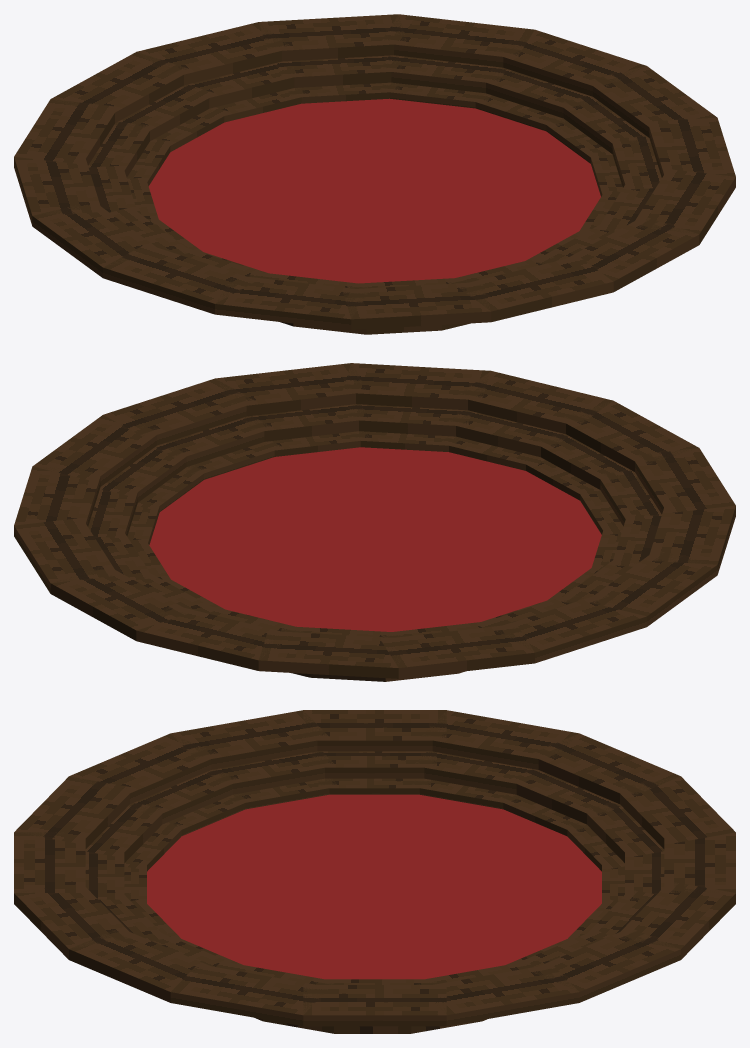
The model's file is beetroot_soup.gltf.
3 views of the same model, one above another, from view 1: azimuth 30°, elevation 25°; view 2: azimuth 150°, elevation 25°; view 3: azimuth 270°, elevation 25° (orthographic).
Visible parts, largest first — view 1: d297f1f9-d02d-9167-44e2-d2d10711b92a, 3bd595d8-c8d8-8e1f-06b3-3cddde2d1557, 9120418a-b0b3-691b-381f-fc3295027f0b, def1c6b0-9e14-e6c2-ab47-0efa7060a84c, f73a48d4-82fd-4c16-953e-ffd6972afe9a, 52a0cb91-4145-1945-8726-5afece0eb060, bba5c583-7ed7-88a5-593d-87915e8fcb8a, 8c423f0f-eef6-a86c-1a44-40e832507e5c, a56b0a11-e8c6-328a-e4f6-247904a5406a, a4475560-7c68-4c83-dd10-37798ab21e79, 7167dc7d-f3ba-0af0-95c4-1eb84645126d, 3343dfec-e2fd-2607-5b75-769e7f3d10f5 (+46 smaller); view 2: 358e8bf9-37b4-3f1f-43fa-1f90005f3583, 9d94169f-267f-b65d-614e-fd06cb2aa6ae, 74181cbe-9815-72b5-d16c-1b12b06b36e2, 6ea89b46-709d-842b-f5cb-ed224063e98d, 9120418a-b0b3-691b-381f-fc3295027f0b, ef0e4f92-a510-a515-c3ab-61c2ff41bd29, c02ed32c-ece5-be66-e192-2cbbdeaddcfa, 8c423f0f-eef6-a86c-1a44-40e832507e5c, 3bd595d8-c8d8-8e1f-06b3-3cddde2d1557, 9f8b8ab0-612a-8770-f4f1-33d205610da4, 4a0c4d32-3595-b147-7348-9e28e950a136, 35467b8e-8ce4-f491-5c77-a38fad2ba2b7 (+46 smaller); view 3: d297f1f9-d02d-9167-44e2-d2d10711b92a, 74181cbe-9815-72b5-d16c-1b12b06b36e2, def1c6b0-9e14-e6c2-ab47-0efa7060a84c, f73a48d4-82fd-4c16-953e-ffd6972afe9a, a4475560-7c68-4c83-dd10-37798ab21e79, e7e35370-12a7-0ddd-5b9e-954f37c2295d, d5ea9301-48b8-bece-629e-57312311e5a4, 358e8bf9-37b4-3f1f-43fa-1f90005f3583, 9f8b8ab0-612a-8770-f4f1-33d205610da4, a56b0a11-e8c6-328a-e4f6-247904a5406a, 828349ce-917f-b604-7065-fc249154bba1, fee19a3f-2a6b-ad59-81d9-776ef89a4b23 (+48 smaller).
Boxes of the visible parts, x1,y1,x2,y2 form: d297f1f9-d02d-9167-44e2-d2d10711b92a: (319, 131, 590, 219); 3bd595d8-c8d8-8e1f-06b3-3cddde2d1557: (306, 98, 419, 177); 9120418a-b0b3-691b-381f-fc3295027f0b: (341, 196, 523, 278); def1c6b0-9e14-e6c2-ab47-0efa7060a84c: (213, 198, 373, 275); f73a48d4-82fd-4c16-953e-ffd6972afe9a: (173, 121, 347, 197); 52a0cb91-4145-1945-8726-5afece0eb060: (342, 282, 491, 329); bba5c583-7ed7-88a5-593d-87915e8fcb8a: (149, 178, 335, 225); 8c423f0f-eef6-a86c-1a44-40e832507e5c: (456, 256, 613, 321); a56b0a11-e8c6-328a-e4f6-247904a5406a: (103, 244, 257, 314); a4475560-7c68-4c83-dd10-37798ab21e79: (342, 211, 452, 283); 7167dc7d-f3ba-0af0-95c4-1eb84645126d: (215, 276, 368, 329); 3343dfec-e2fd-2607-5b75-769e7f3d10f5: (381, 14, 534, 67); 358e8bf9-37b4-3f1f-43fa-1f90005f3583: (350, 525, 585, 603); 9d94169f-267f-b65d-614e-fd06cb2aa6ae: (149, 510, 376, 560); 74181cbe-9815-72b5-d16c-1b12b06b36e2: (203, 457, 397, 568); 6ea89b46-709d-842b-f5cb-ed224063e98d: (380, 624, 534, 678); 9120418a-b0b3-691b-381f-fc3295027f0b: (349, 451, 521, 530); ef0e4f92-a510-a515-c3ab-61c2ff41bd29: (258, 631, 403, 678); c02ed32c-ece5-be66-e192-2cbbdeaddcfa: (342, 363, 490, 410); 8c423f0f-eef6-a86c-1a44-40e832507e5c: (456, 371, 612, 433); 3bd595d8-c8d8-8e1f-06b3-3cddde2d1557: (174, 538, 334, 610); 9f8b8ab0-612a-8770-f4f1-33d205610da4: (103, 378, 257, 445); 4a0c4d32-3595-b147-7348-9e28e950a136: (215, 363, 365, 416); 35467b8e-8ce4-f491-5c77-a38fad2ba2b7: (493, 593, 646, 663); d297f1f9-d02d-9167-44e2-d2d10711b92a: (326, 874, 419, 979); 74181cbe-9815-72b5-d16c-1b12b06b36e2: (251, 868, 432, 979); def1c6b0-9e14-e6c2-ab47-0efa7060a84c: (242, 795, 396, 880); f73a48d4-82fd-4c16-953e-ffd6972afe9a: (399, 838, 601, 888); a4475560-7c68-4c83-dd10-37798ab21e79: (147, 838, 345, 893); e7e35370-12a7-0ddd-5b9e-954f37c2295d: (303, 985, 446, 1026); d5ea9301-48b8-bece-629e-57312311e5a4: (155, 883, 342, 945); 358e8bf9-37b4-3f1f-43fa-1f90005f3583: (326, 794, 419, 873); 9f8b8ab0-612a-8770-f4f1-33d205610da4: (170, 964, 328, 1025); a56b0a11-e8c6-328a-e4f6-247904a5406a: (171, 710, 329, 769); 828349ce-917f-b604-7065-fc249154bba1: (303, 710, 446, 751); fee19a3f-2a6b-ad59-81d9-776ef89a4b23: (433, 964, 579, 1025).
Bounding box in the file's own units: 0.9352 × 0.125 × 0.9352.
Materials: 3 (3 with a texture image).
